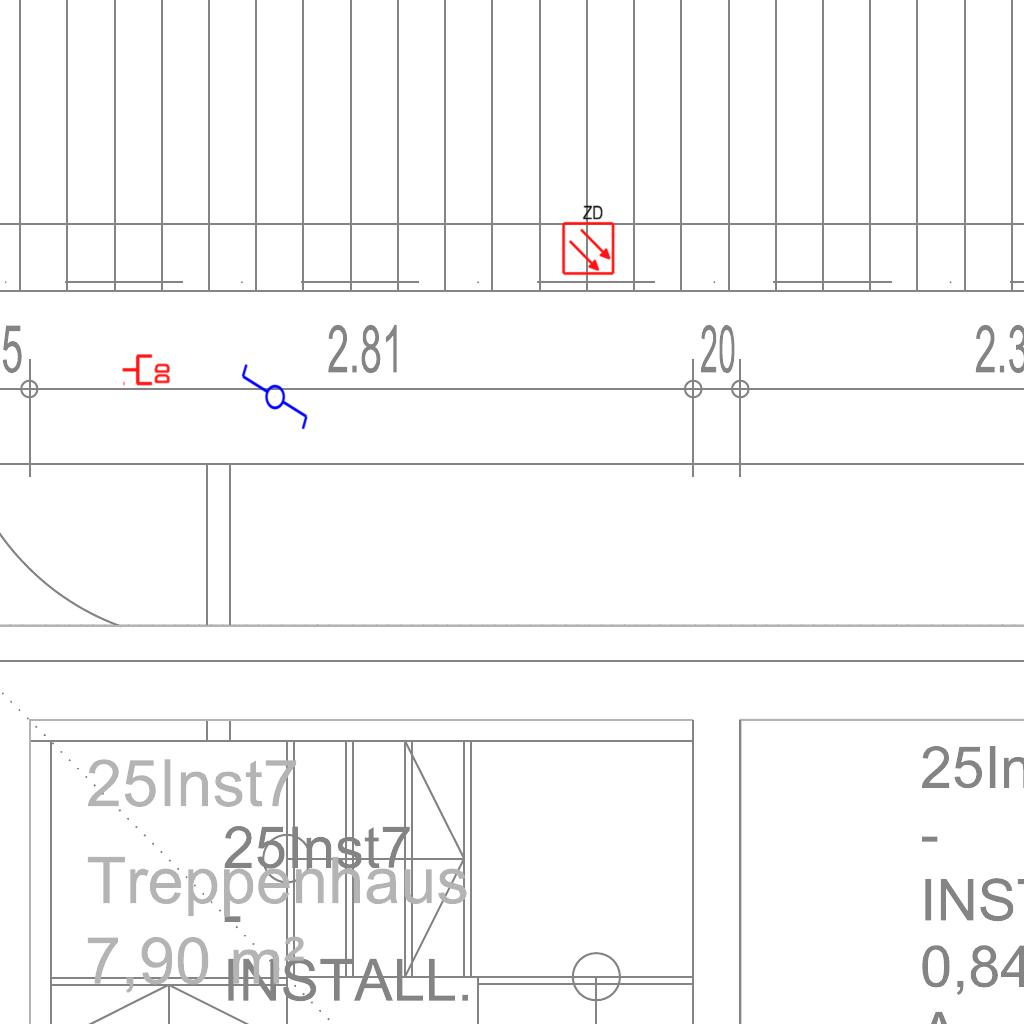Datenanschluss_zweifach: (121, 352, 172, 386)
Wechselschalter: (238, 362, 310, 440)
ZD_Melder_in_Zwischendecke_mit_Revisionsoeffnung_mind_40_x_40_cm: (559, 202, 616, 276)
